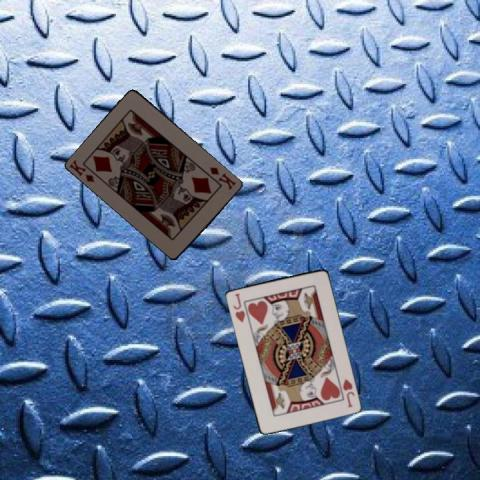Jh: (230, 290, 247, 323), (340, 375, 356, 409)
Kd: (207, 164, 237, 192), (67, 157, 96, 184)
